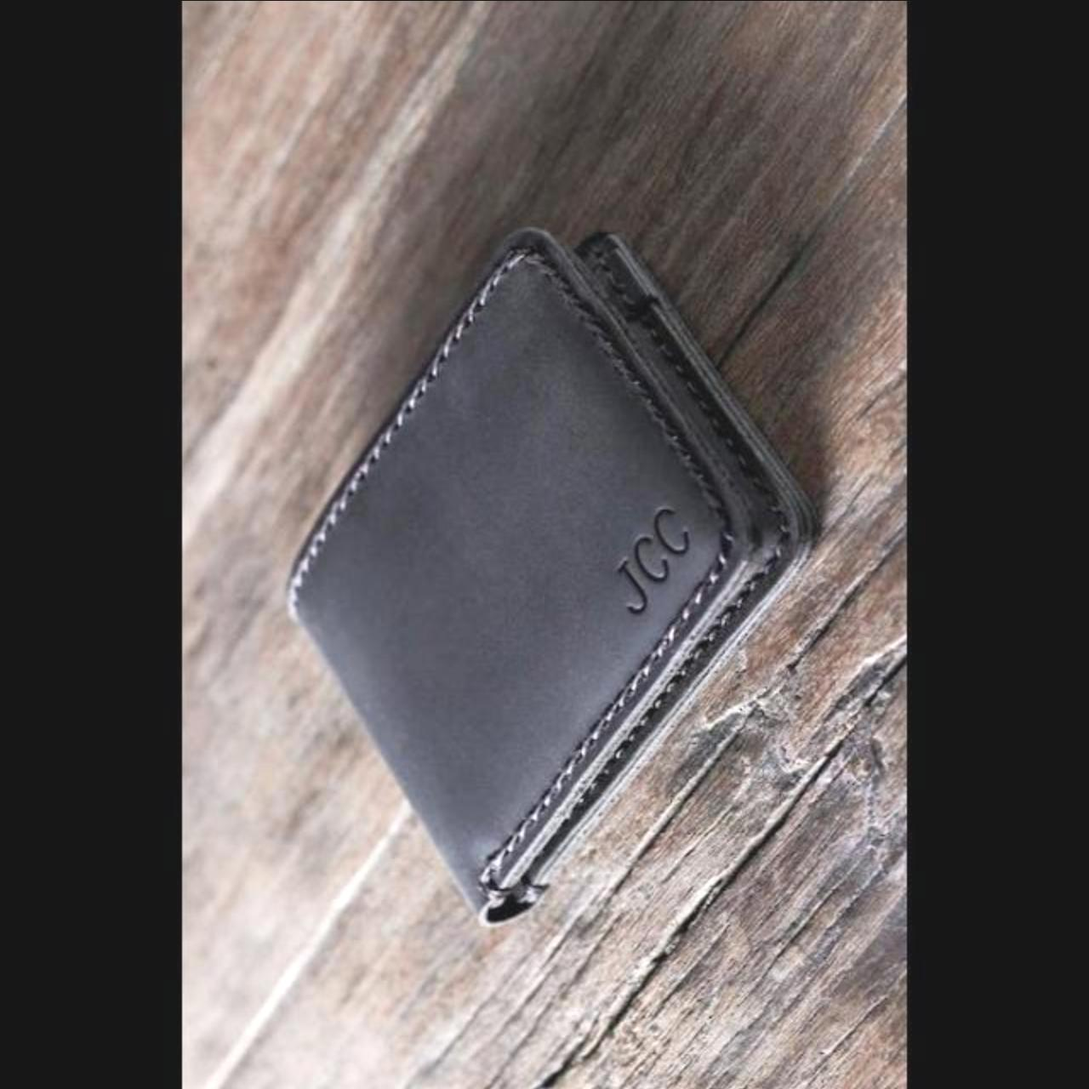wallet: (284, 219, 801, 923)
